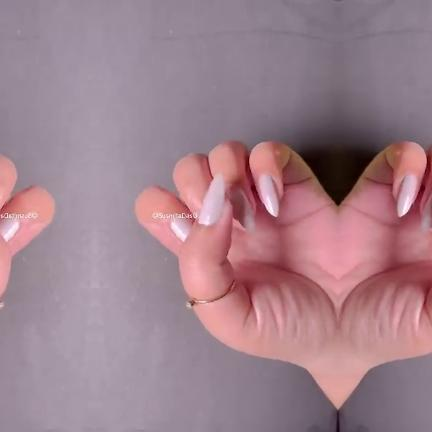Nail: (197, 172, 223, 226), (226, 189, 254, 235), (258, 174, 278, 217), (396, 174, 416, 217), (420, 190, 432, 235), (170, 218, 192, 242), (0, 218, 18, 242)
